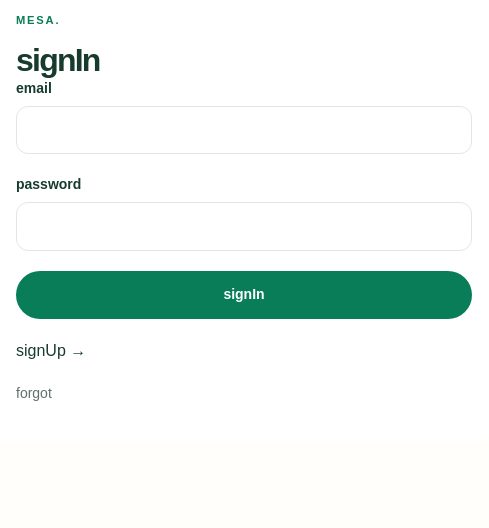
stays on sign-in when session assurance cannot be established
Step 1. Type "customer@example.com" into the field labelled "email" → (244, 130), box [16,106,472,154]
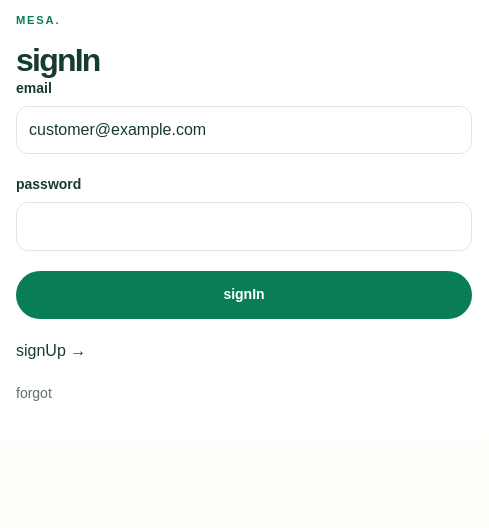
Step 2. Type "Test!Password123" into the password field labelled "password" → (244, 226), box [16,202,472,251]
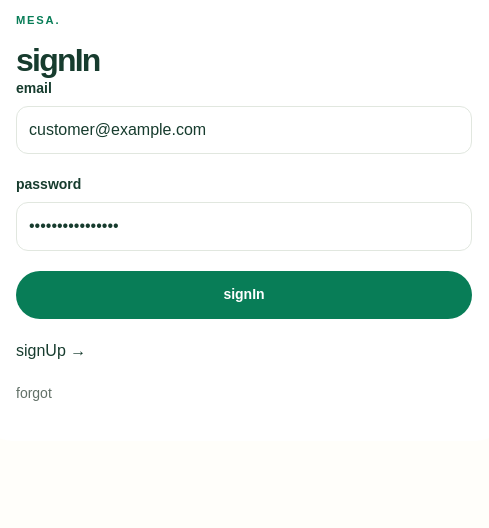
Step 3. Submit the form labelled "email", box [16,78,472,405]
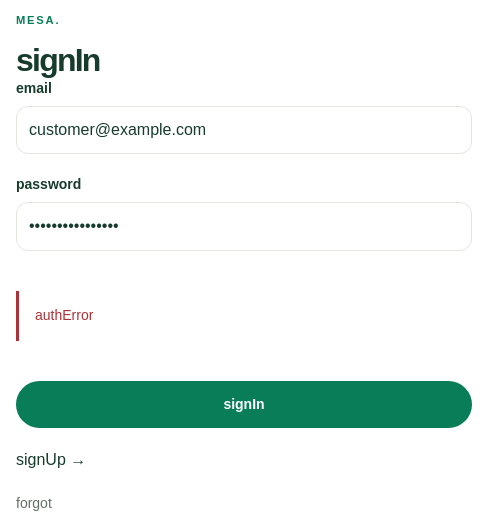
Result: the message reads "authError" at [35,307,93,323]
